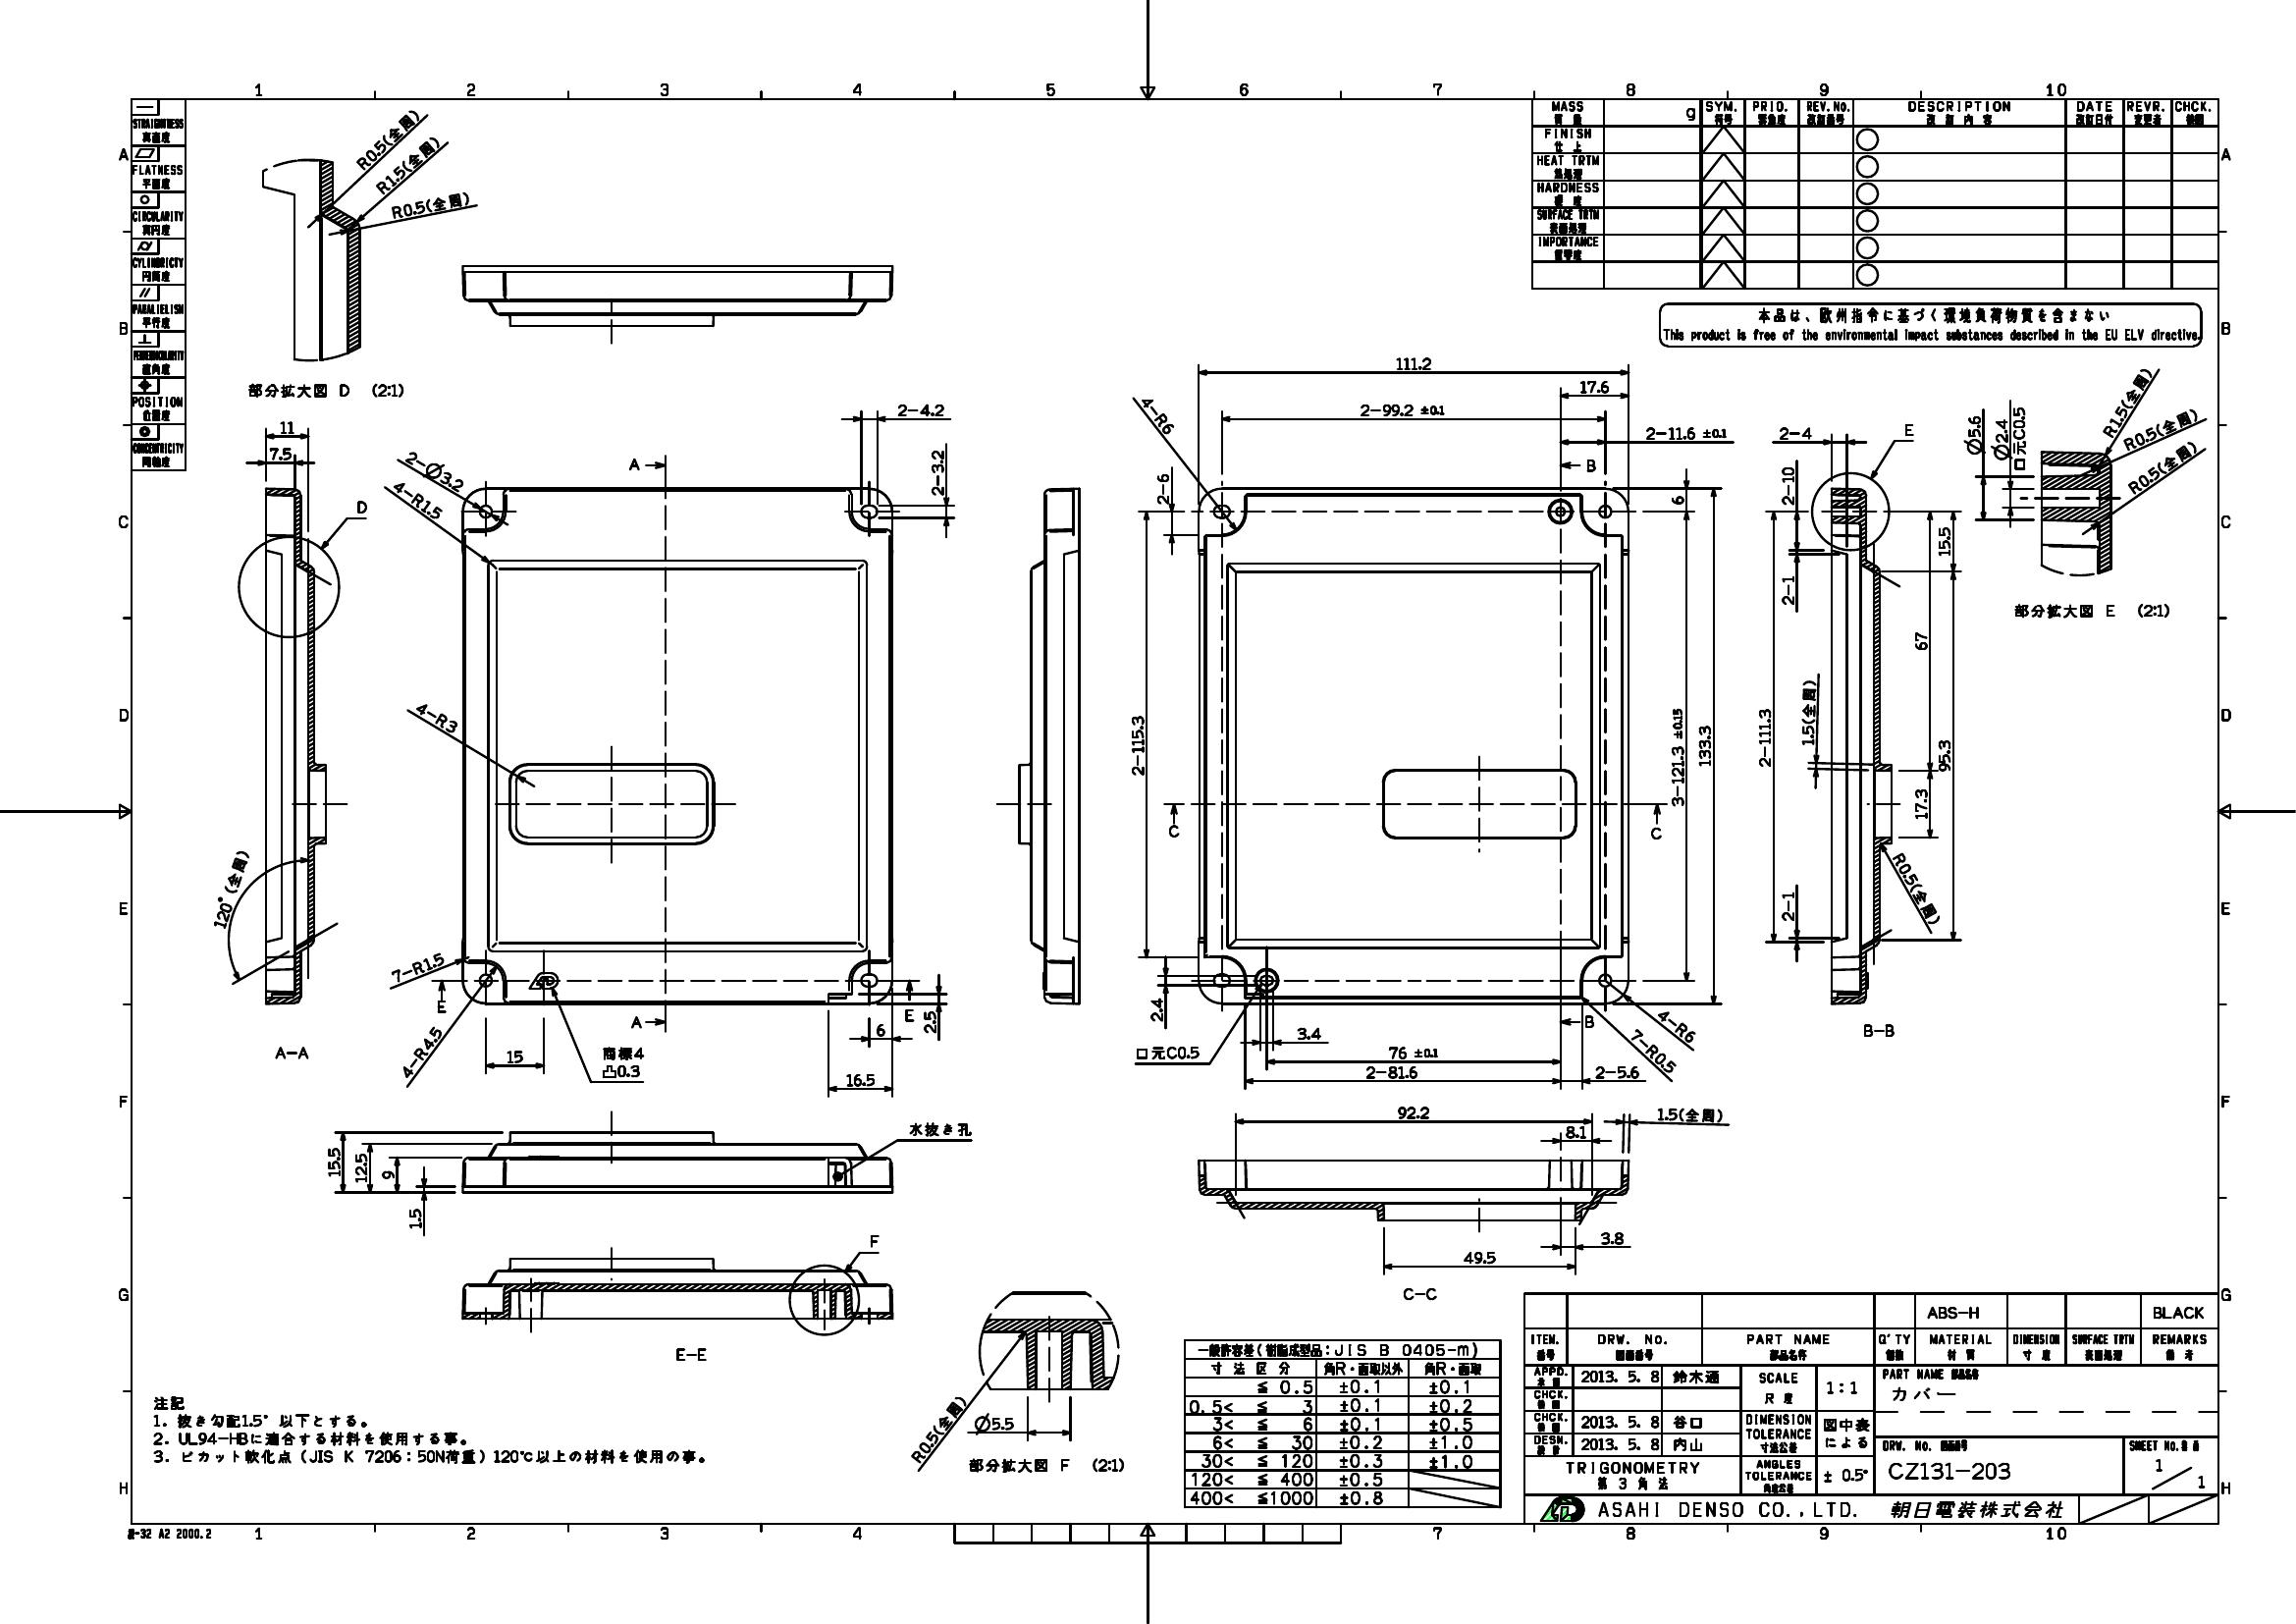anntotation_text: (148, 1394, 711, 1469), (1657, 301, 2205, 348), (970, 1454, 1126, 1478), (2013, 599, 2173, 622), (246, 380, 408, 401), (125, 1524, 214, 1541), (905, 1118, 973, 1141), (1398, 1283, 1440, 1304), (1859, 1019, 1897, 1040), (271, 1044, 313, 1062), (601, 1044, 645, 1060), (673, 1345, 710, 1362), (1648, 824, 1669, 844), (432, 997, 450, 1018), (353, 496, 369, 517), (1165, 823, 1182, 840), (629, 1011, 643, 1030), (1903, 420, 1917, 439), (1583, 453, 1597, 473), (866, 1230, 880, 1250), (903, 1005, 915, 1026), (627, 455, 641, 473), (1583, 1012, 1595, 1028)
dimension_text: (2085, 392, 2168, 415), (1876, 875, 1959, 898), (188, 877, 276, 898), (1667, 705, 1685, 808), (898, 1418, 982, 1439), (388, 195, 471, 216), (1358, 401, 1448, 420), (2122, 457, 2203, 478), (1641, 424, 1729, 443), (2119, 420, 2203, 439), (365, 156, 448, 176), (1131, 1042, 1200, 1065), (1797, 680, 1820, 747), (344, 130, 430, 148), (399, 460, 469, 482), (1655, 1104, 1723, 1125), (1126, 712, 1147, 777), (386, 489, 450, 510), (1755, 707, 1776, 768), (411, 707, 464, 731), (1623, 1040, 1683, 1062), (388, 958, 450, 977), (1989, 417, 2013, 462), (1384, 1040, 1440, 1060), (971, 1411, 1015, 1436), (2010, 404, 2025, 471), (1360, 1062, 1419, 1079), (390, 1044, 455, 1060), (1131, 404, 1182, 424), (929, 448, 949, 497), (1592, 1063, 1641, 1083), (892, 401, 945, 418), (1655, 1016, 1702, 1035), (1964, 413, 1985, 455), (599, 1062, 645, 1081), (1152, 469, 1175, 506), (1780, 462, 1797, 510), (1695, 722, 1713, 768), (1393, 355, 1433, 374), (1574, 376, 1611, 397), (323, 1144, 344, 1181), (1774, 424, 1813, 443), (1911, 784, 1931, 823), (1462, 1246, 1497, 1267), (841, 1070, 878, 1090), (265, 441, 295, 464), (1934, 735, 1952, 773), (1391, 1104, 1433, 1120), (1936, 524, 1953, 559), (1780, 573, 1797, 606), (1780, 889, 1797, 923), (1145, 995, 1165, 1023), (351, 1151, 367, 1185), (1293, 1025, 1323, 1042), (1562, 1123, 1588, 1142), (1599, 1229, 1627, 1246), (921, 1007, 938, 1033), (278, 417, 297, 438), (1913, 629, 1929, 652), (408, 1206, 422, 1230), (506, 1048, 523, 1067), (1667, 492, 1685, 510), (873, 1019, 887, 1040), (379, 1169, 395, 1183)
object: (1195, 483, 1630, 1007), (460, 483, 894, 1007), (1827, 483, 1894, 1007), (1015, 485, 1082, 1007), (264, 487, 327, 1007), (457, 1128, 894, 1199), (1195, 1156, 1632, 1225), (457, 1255, 894, 1322), (460, 262, 896, 329), (262, 156, 364, 364), (975, 1315, 1117, 1392), (2036, 448, 2115, 580)
title_block: (1521, 1290, 2220, 1526), (1530, 97, 2222, 292), (1182, 1338, 1502, 1510), (128, 97, 188, 473)
